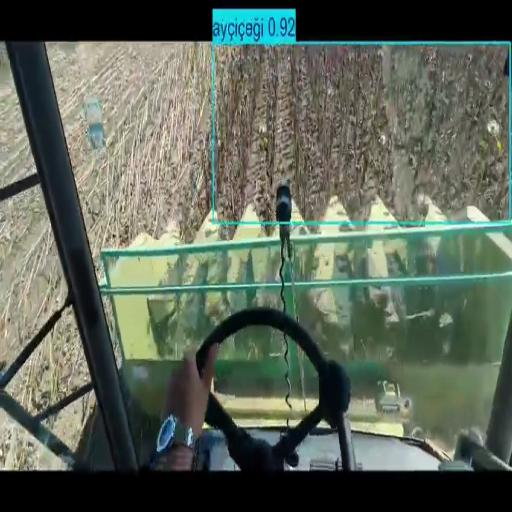ayc: (216, 47, 508, 223)
